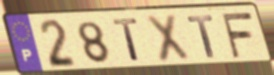2: (38, 17, 79, 71)
8: (75, 20, 113, 64)
F: (219, 10, 255, 60)
T: (185, 14, 217, 60), (111, 17, 142, 63)
X: (144, 13, 193, 65)
